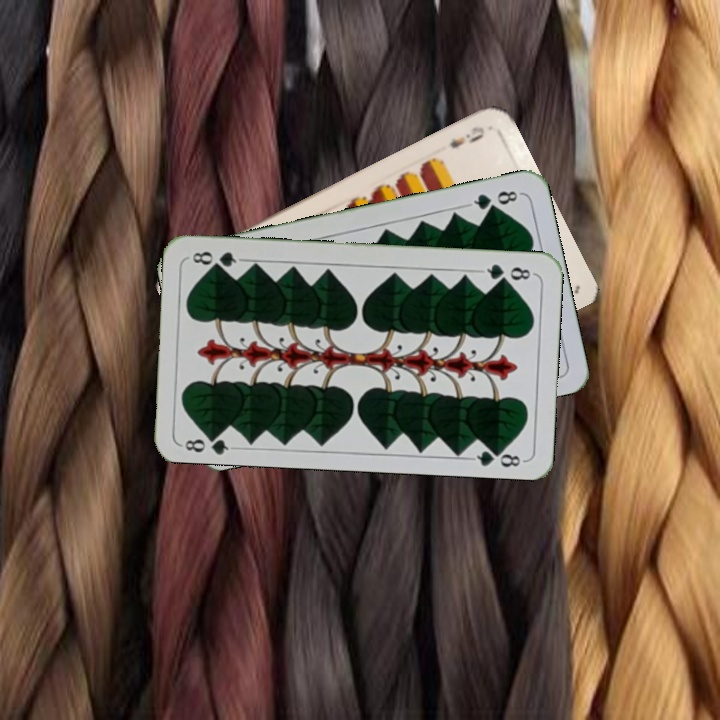E9: (445, 122, 488, 152)
G8: (178, 428, 237, 456), (465, 186, 523, 213), (477, 259, 536, 284)
